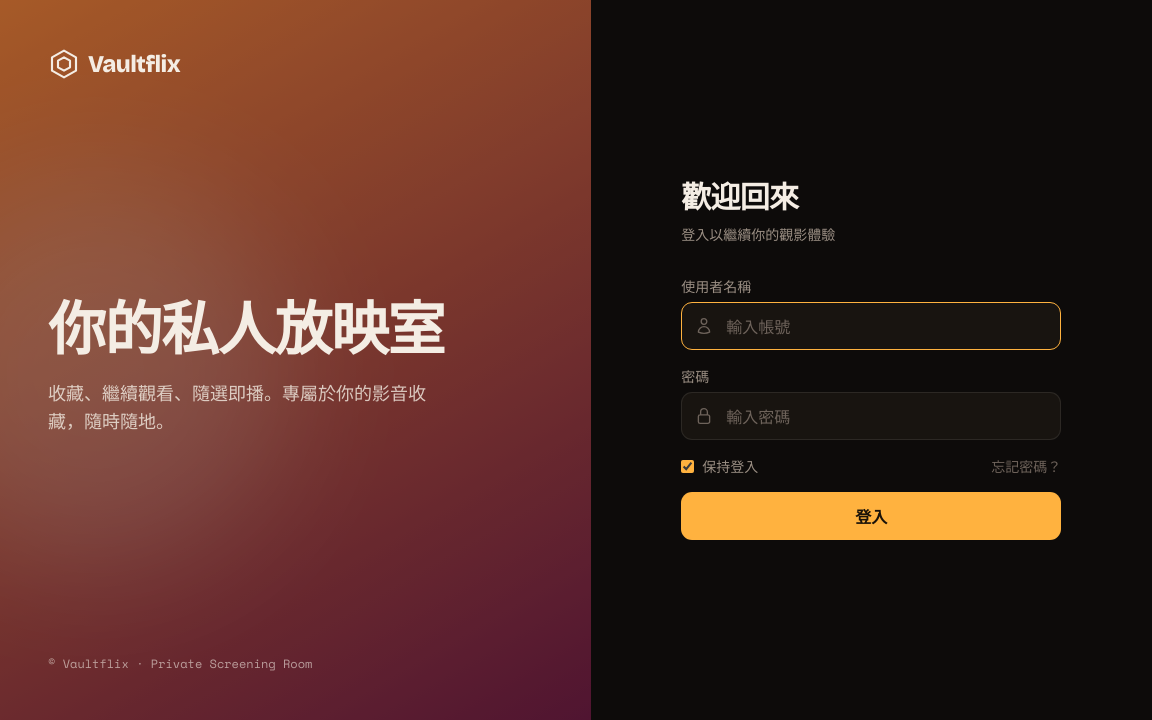
LoginPage › says why a login failed: no answer from the server
Type "steven" into the field with placeholder "輸入帳號" at (871, 326), box 681,302 -> 1061,350
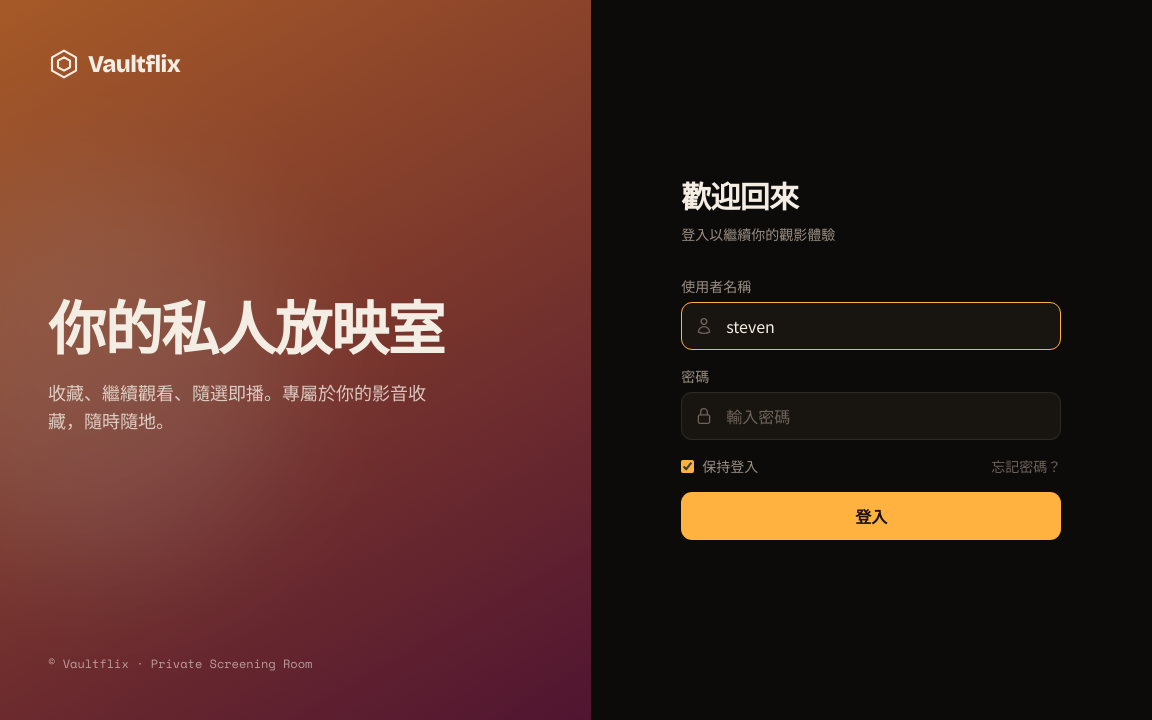
Type "wrong" into the password field with placeholder "輸入密碼" at (871, 416), box 681,392 -> 1061,440
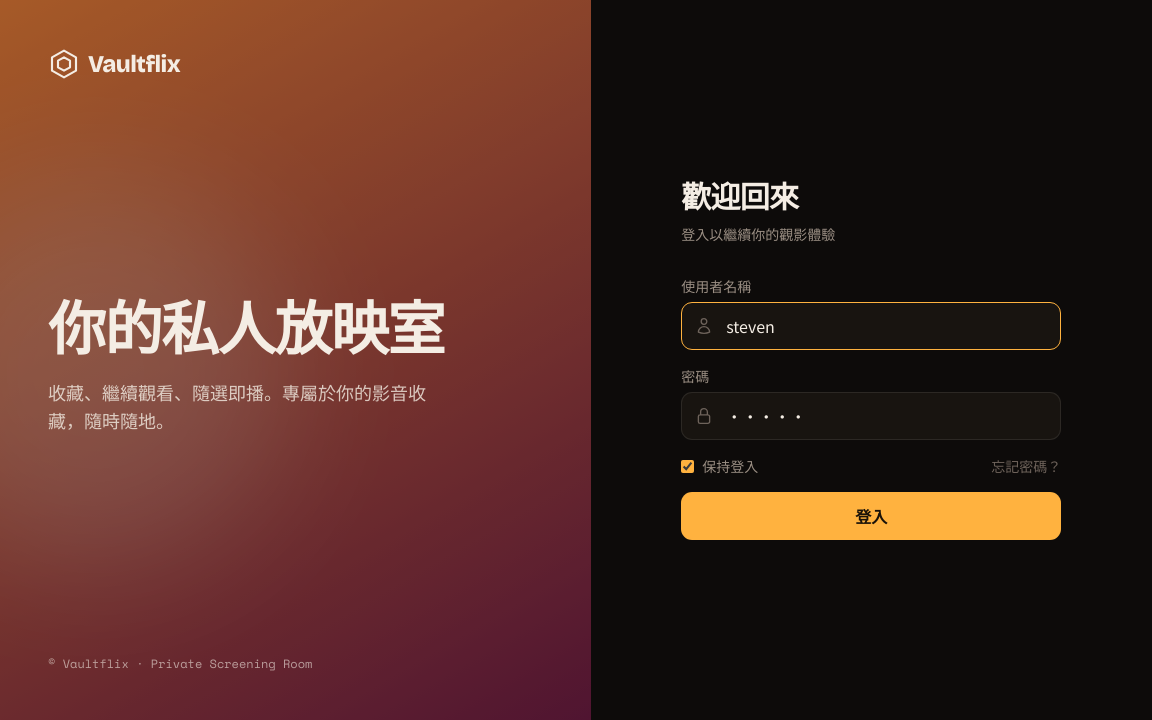
Submit the form with placeholder "輸入密碼", box 681,276 -> 1061,540
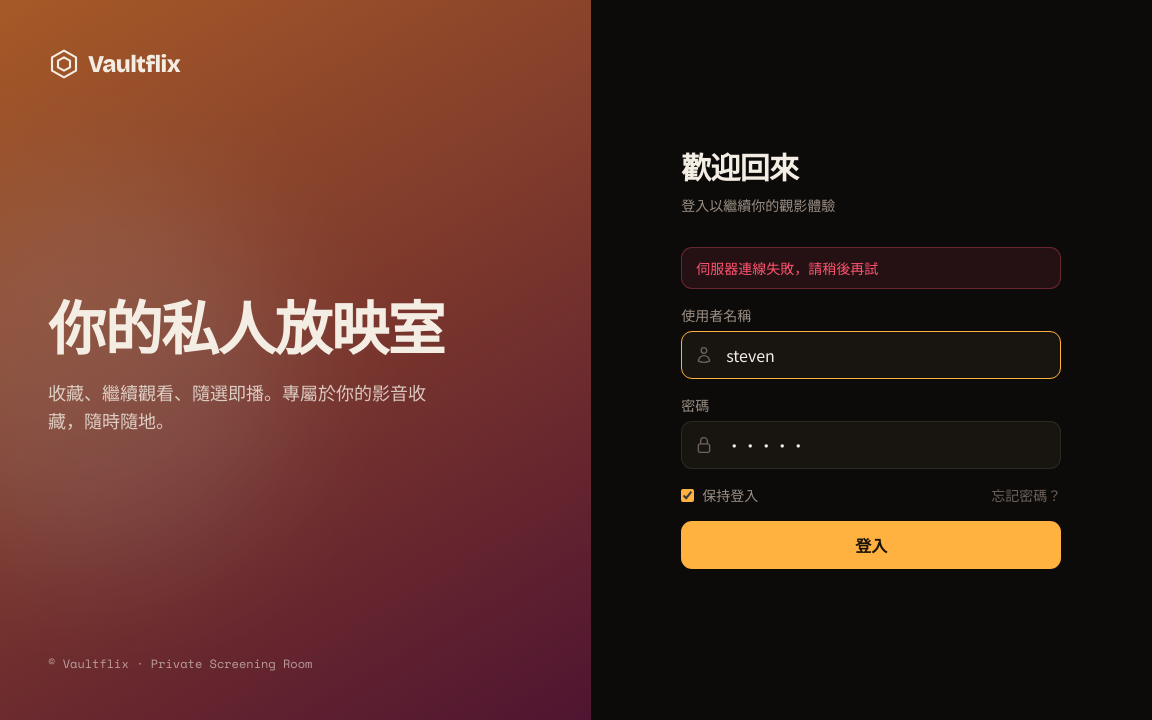
expect the button "伺服器連線失敗，請稍後再試" is shown: met, box 681,247 -> 1061,289
